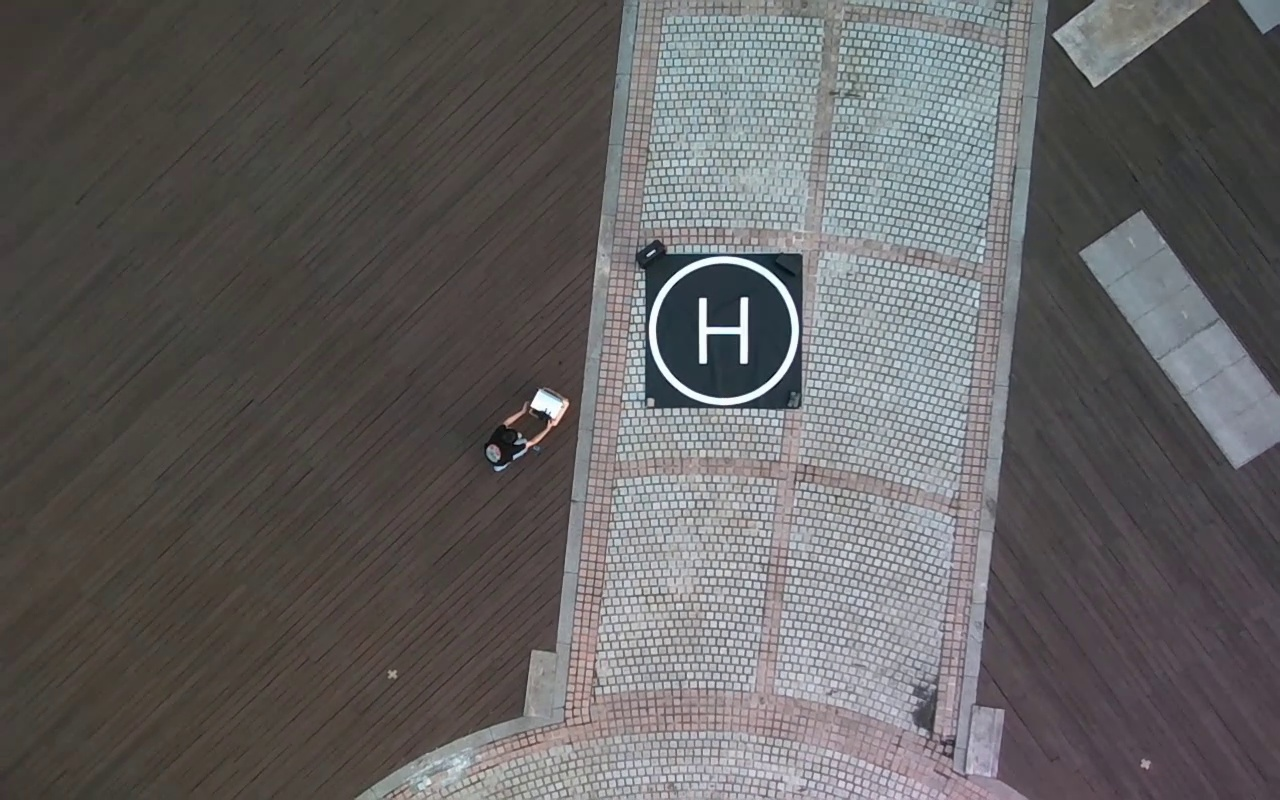H: (697, 294, 750, 365)
heliport: (650, 254, 801, 403)
